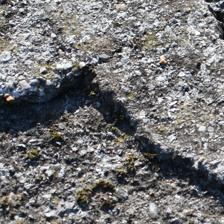Crack: (63, 52, 197, 119), (66, 12, 157, 75)
